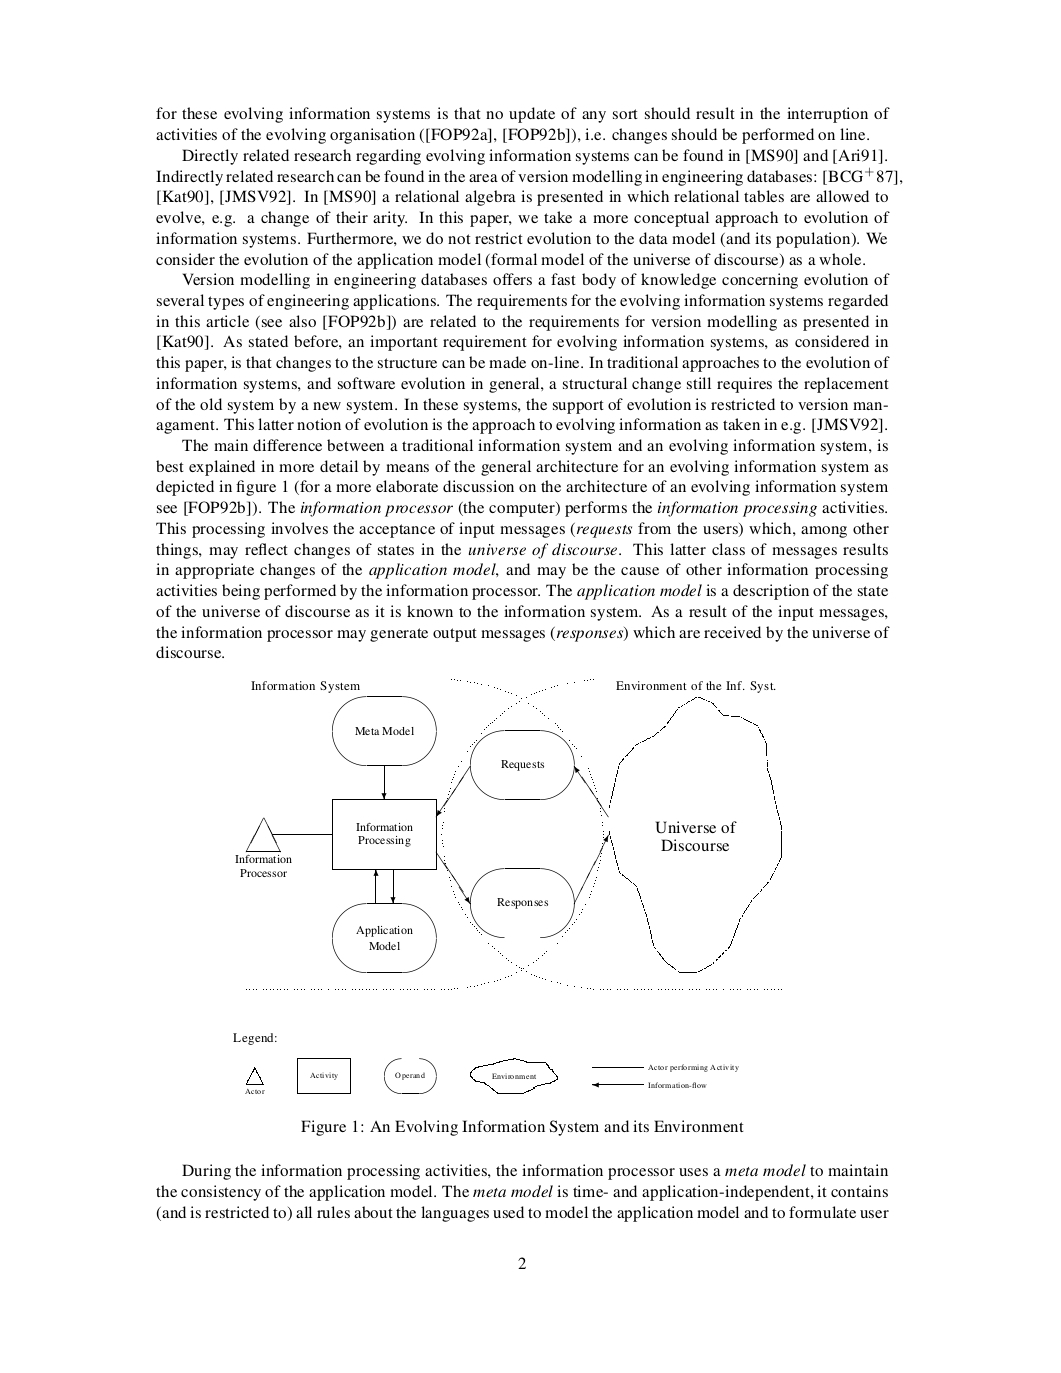figure: (235, 679, 781, 989), (245, 1056, 738, 1094)
